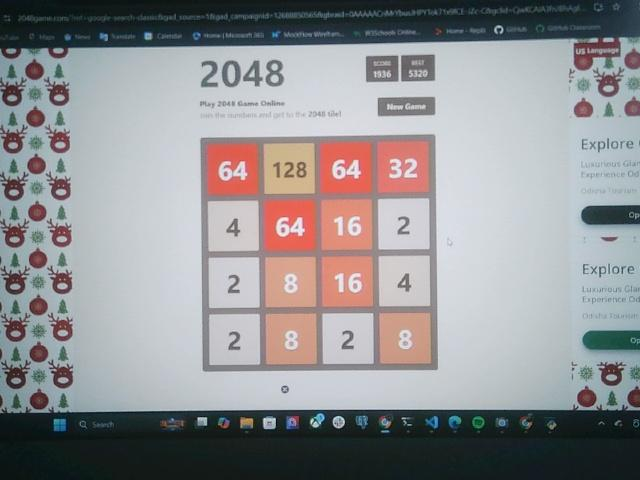board: (201, 137, 437, 370)
tile: (380, 312, 433, 365), (208, 200, 260, 253), (209, 257, 261, 309), (379, 256, 431, 308), (378, 141, 429, 193), (321, 257, 374, 307), (208, 143, 259, 194), (321, 143, 372, 194), (379, 199, 430, 250), (210, 314, 261, 365), (264, 143, 316, 193), (264, 199, 316, 249), (322, 201, 373, 251), (265, 256, 316, 306), (322, 315, 374, 364), (266, 314, 318, 361)
